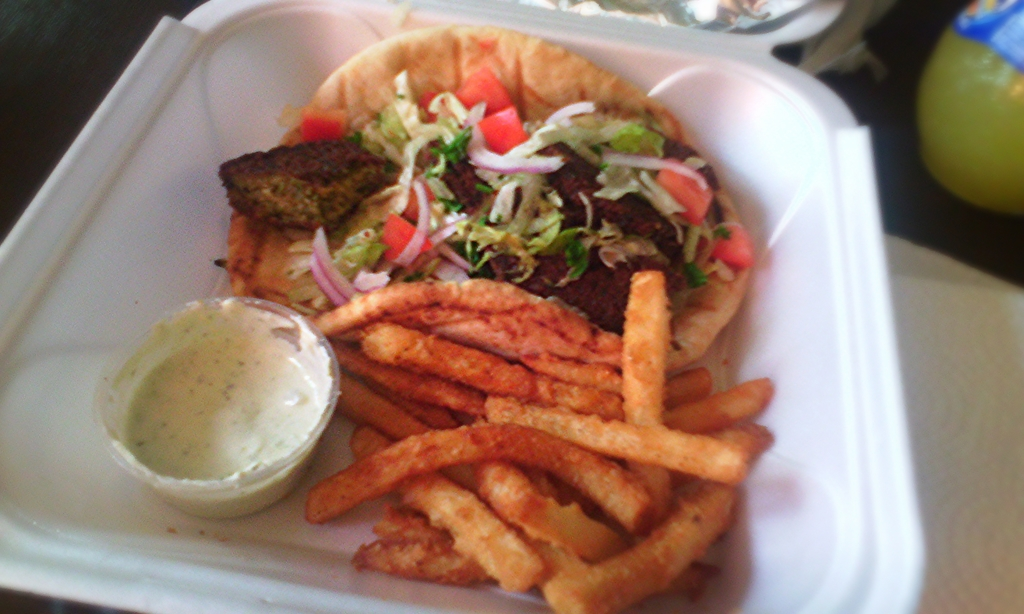French fries: (300, 259, 776, 613)
